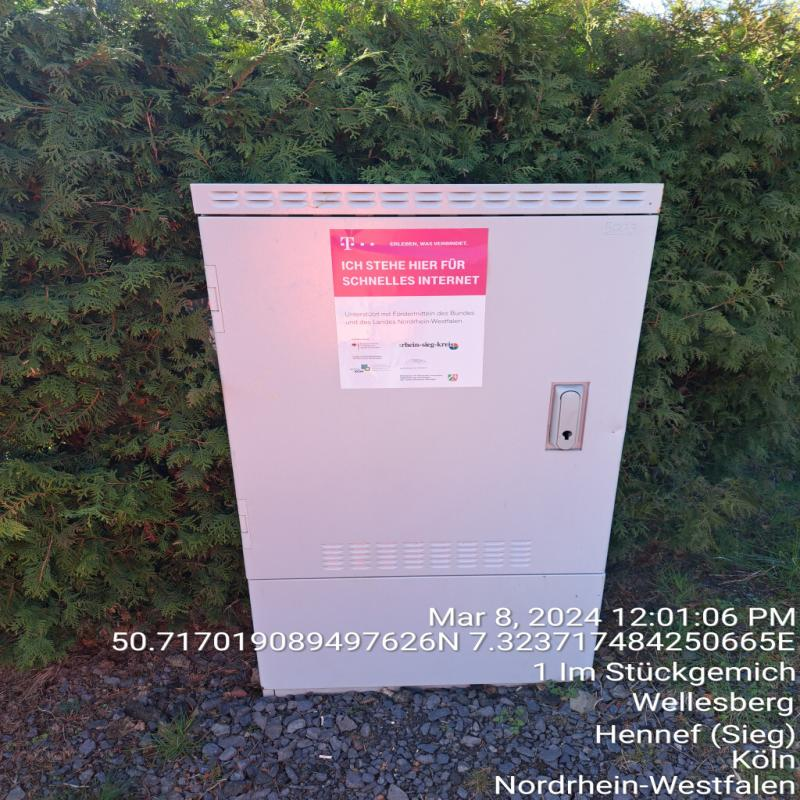NT-Gehause: (186, 181, 662, 612)
Steaker: (332, 230, 484, 389)
